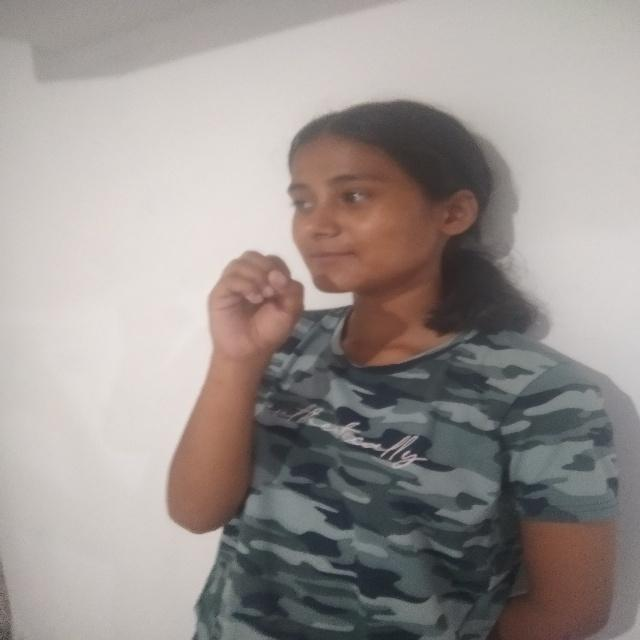Fist Mouth: (195, 96, 477, 385)
